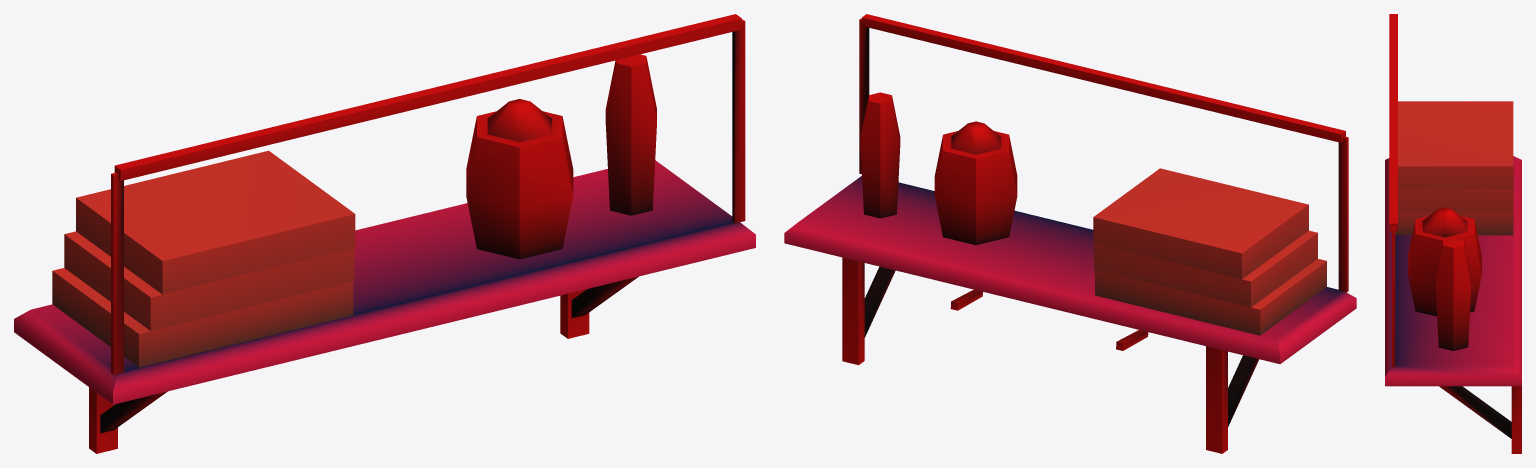
The model's file is CI_Bathroom_WallShelf.glb.
The picture shows the model from 3 angles, left to right: view 1: azimuth 30°, elevation 25°; view 2: azimuth 150°, elevation 25°; view 3: azimuth 270°, elevation 25°; orthographic projection. The views are drawn at different scales.
Visible parts, largest first — view 1: CI_Bathroom_WallShelf; view 2: CI_Bathroom_WallShelf; view 3: CI_Bathroom_WallShelf.
Boxes of the visible parts, left/top/right/bottom form: CI_Bathroom_WallShelf: left=14, top=14, right=755, bottom=453; CI_Bathroom_WallShelf: left=784, top=14, right=1356, bottom=453; CI_Bathroom_WallShelf: left=1385, top=14, right=1521, bottom=453.
Bounding box in the file's own units: 0.6 × 0.3249 × 0.16.
